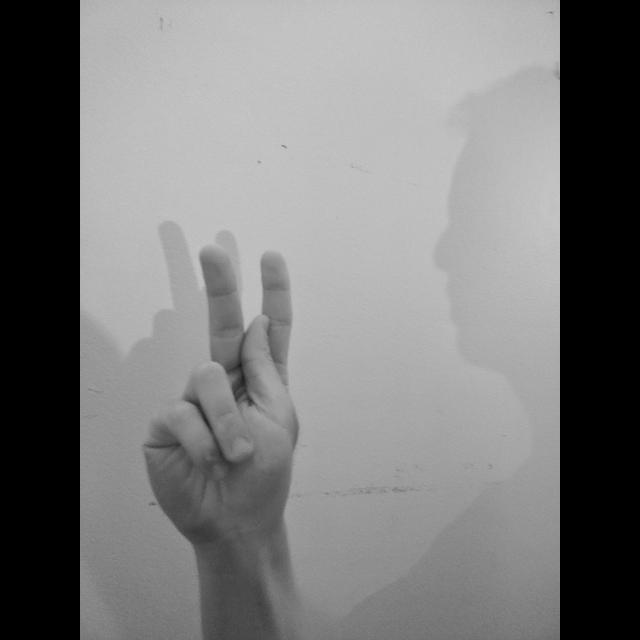K: (138, 232, 308, 548)
